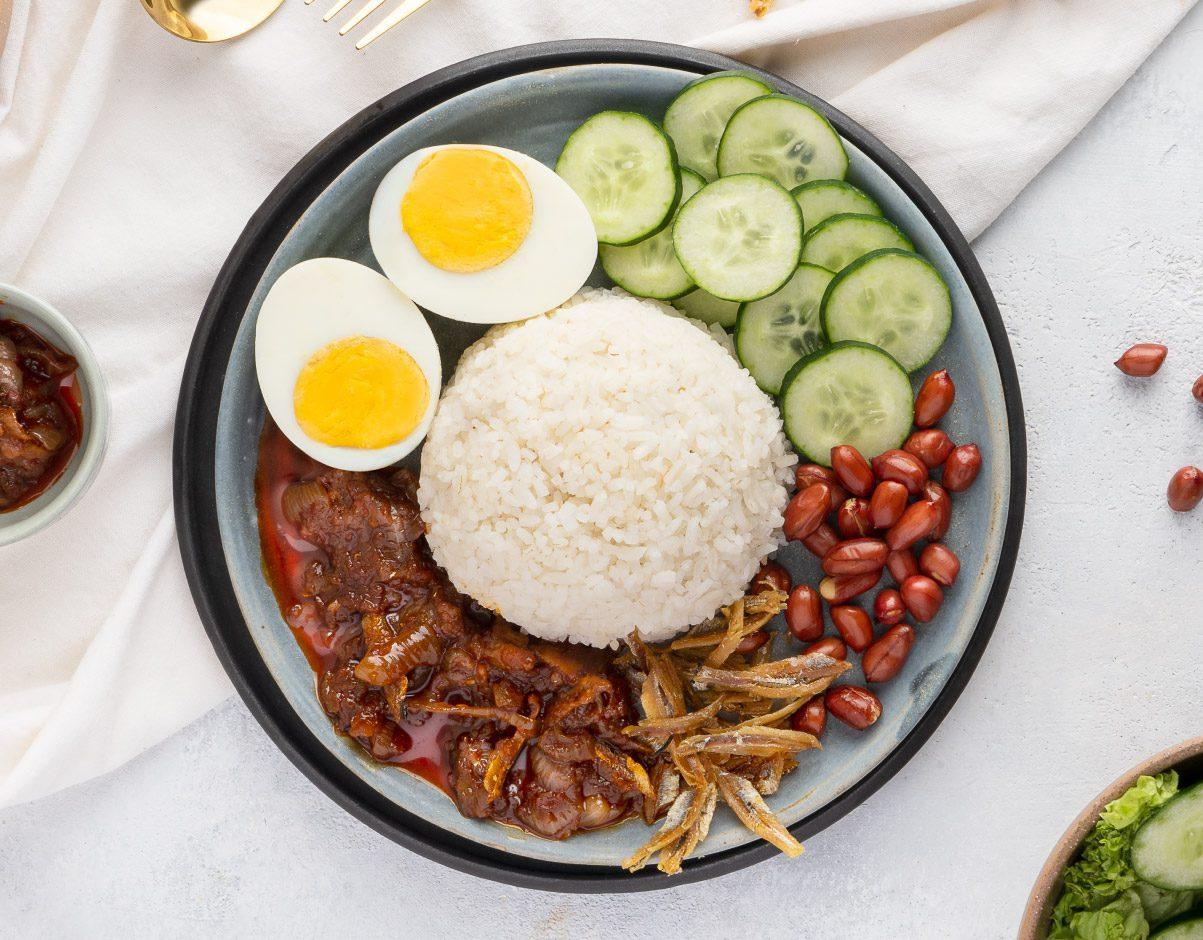Anchovies: (643, 567, 844, 860)
Boiled-Egg: (255, 144, 599, 475)
Cucumber: (557, 82, 955, 467)
Peanuts: (787, 376, 978, 726)
Rice: (421, 294, 789, 642)
Sambal: (255, 437, 674, 842)
